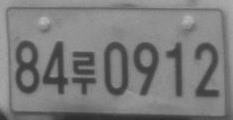0: (102, 40, 129, 96)
1: (162, 41, 190, 97)
2: (193, 41, 220, 98)
4: (41, 39, 68, 96)
8: (14, 39, 39, 94)
9: (132, 41, 159, 96)
루: (71, 50, 97, 96)
